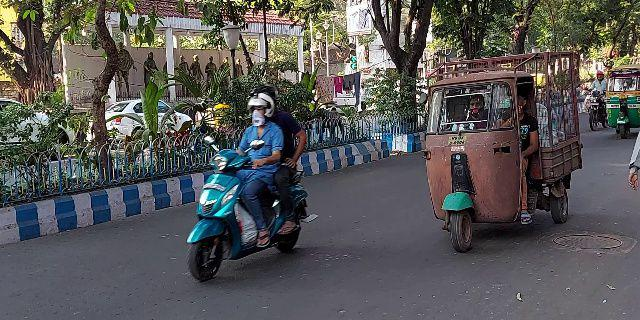Autorickshaw: (416, 51, 583, 256), (606, 63, 639, 138)
Motorbike: (179, 81, 311, 286), (586, 70, 609, 133)
